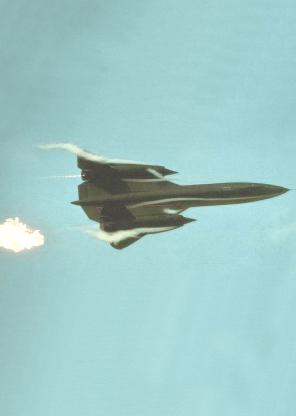Rafale: (70, 149, 293, 251)
